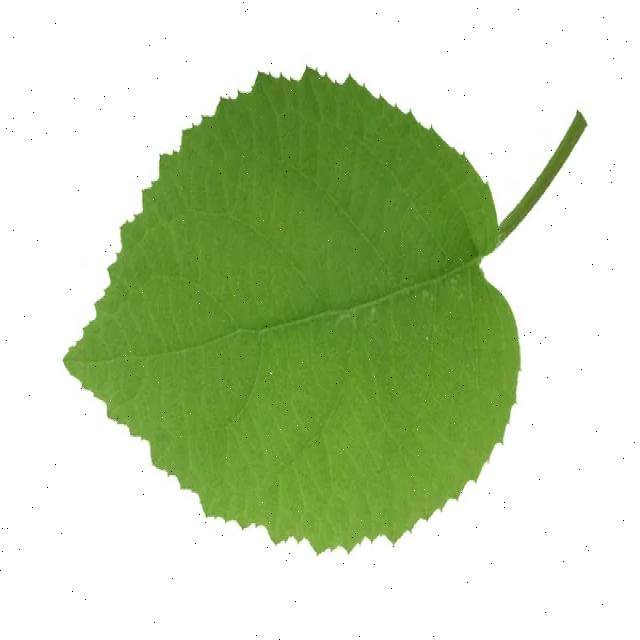kayisi yapragi: (55, 62, 523, 556)
